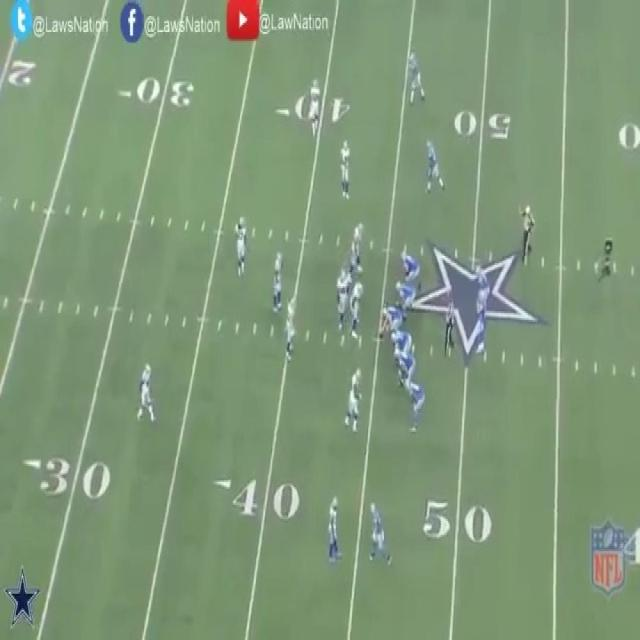center: (380, 302, 403, 336)
db: (325, 496, 341, 558), (233, 215, 247, 272), (310, 78, 322, 136), (341, 139, 352, 201)
lb: (272, 250, 283, 308), (286, 295, 295, 357)
qb: (477, 265, 489, 304)
